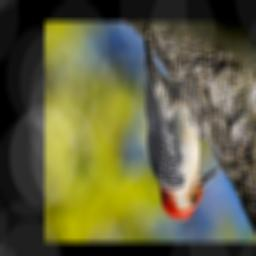Woodpecker: (144, 41, 223, 220)
